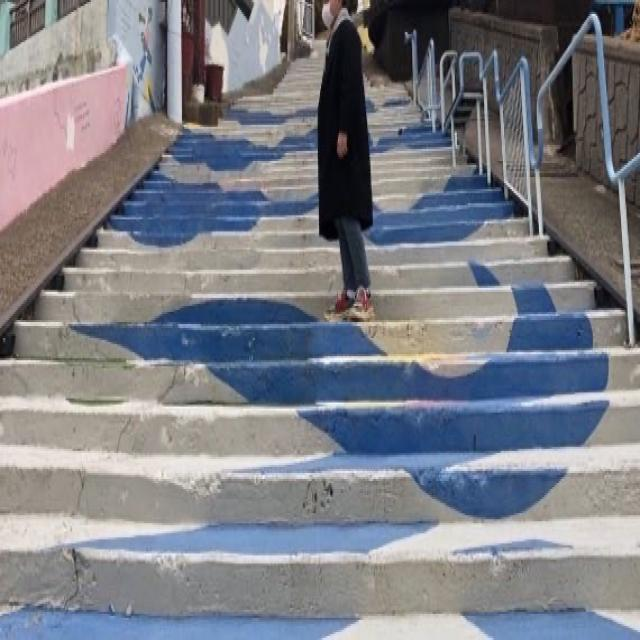denimpants: (317, 22, 372, 237), (334, 212, 372, 294)
